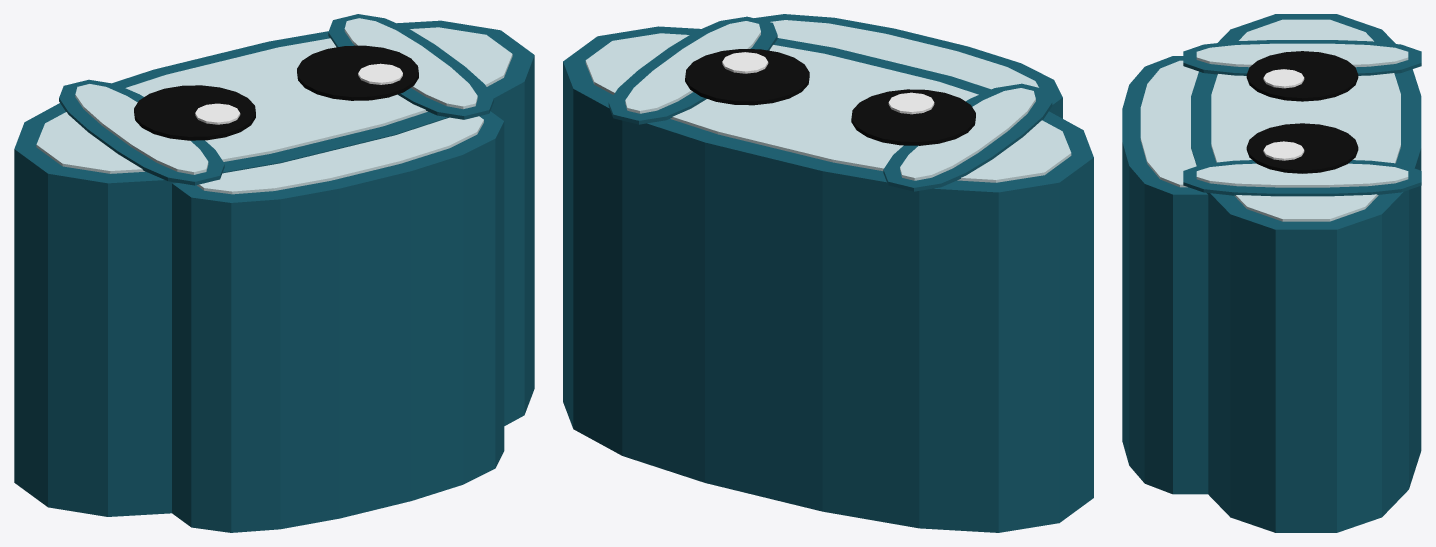
Rendered from bag_robo_visor.fbx.
The picture shows the model from 3 angles, left to right: view 1: azimuth 30°, elevation 25°; view 2: azimuth 150°, elevation 25°; view 3: azimuth 270°, elevation 25°; orthographic projection. The views are drawn at different scales.
Visible parts, largest first — view 1: bag_robo_visor_mochila; view 2: bag_robo_visor_mochila; view 3: bag_robo_visor_mochila.
Boxes of the visible parts, x1=… form: bag_robo_visor_mochila: x1=14, y1=14, x2=534, y2=532; bag_robo_visor_mochila: x1=563, y1=14, x2=1093, y2=532; bag_robo_visor_mochila: x1=1122, y1=14, x2=1421, y2=532.
Size of the model in its own units: 2.75 by 1.88 by 1.61.
Materials: 1 (1 with a texture image).
